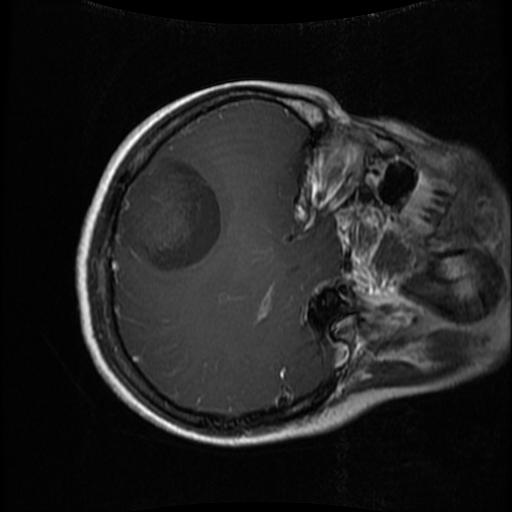glioma: (125, 161, 215, 275)
